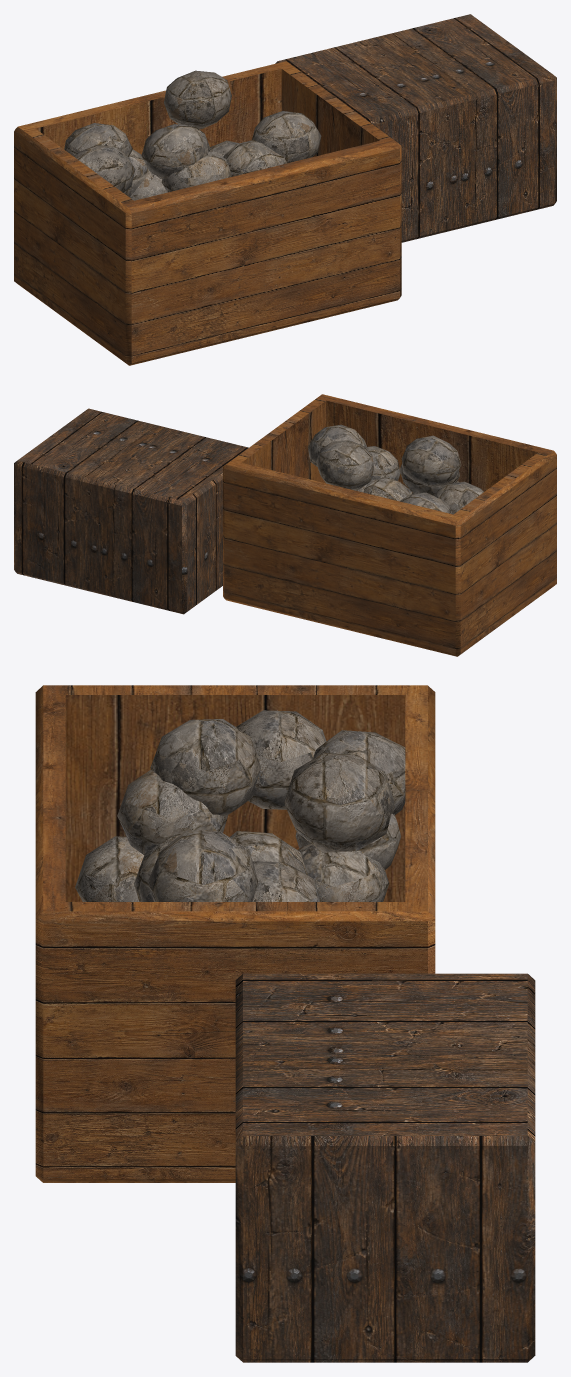
The model's file is ore-crates-v01.glb.
3 views of the same model, one above another, from view 1: azimuth 30°, elevation 25°; view 2: azimuth 150°, elevation 25°; view 3: azimuth 270°, elevation 25° (orthographic). The views are drawn at different scales.
Visible parts, largest first — view 1: ore-crates; view 2: ore-crates; view 3: ore-crates.
Part boxes in pixels (x1,y1,x2,y2): ore-crates: (14,14,556,365); ore-crates: (14,394,556,656); ore-crates: (35,685,535,1362).
Bounding box in the file's own units: 1.95 × 0.7309 × 1.
Materials: 3 (3 with a texture image).
